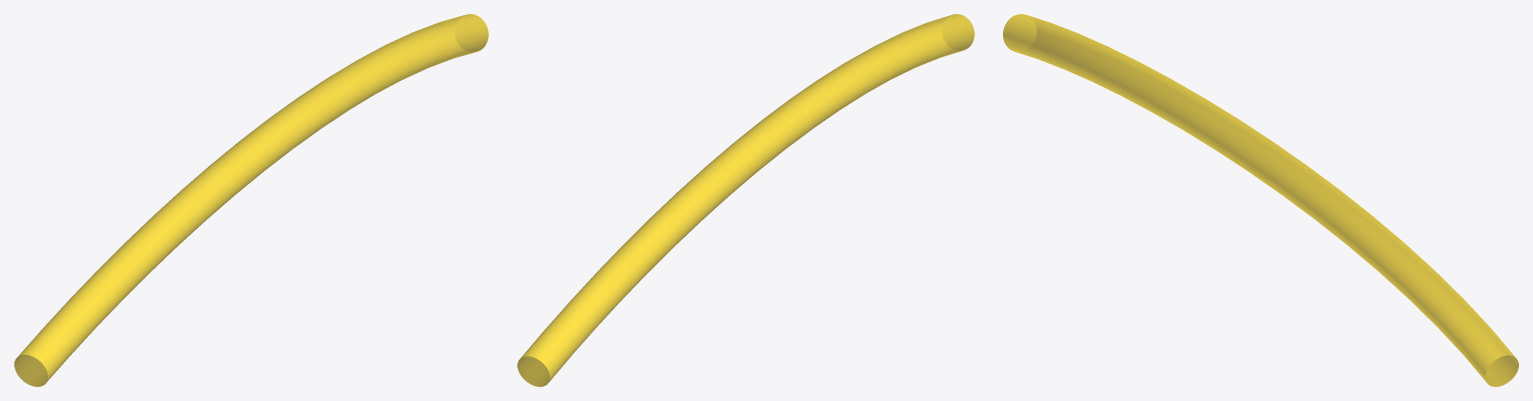
Rendered from Event_17758602_track_103.fbx.
3 views of the same model, side by side, from view 1: azimuth 30°, elevation 25°; view 2: azimuth 210°, elevation 25°; view 3: azimuth 270°, elevation 25° (orthographic). The views are drawn at different scales.
Visible parts, largest first — view 1: Model; view 2: Model; view 3: Model.
Boxes of the visible parts, x1=… form: Model: x1=14, y1=14, x2=488, y2=386; Model: x1=517, y1=14, x2=974, y2=386; Model: x1=1003, y1=14, x2=1518, y2=386.
Bounding box in the file's own units: 0.8307 × 0.0956 × 0.5332.
